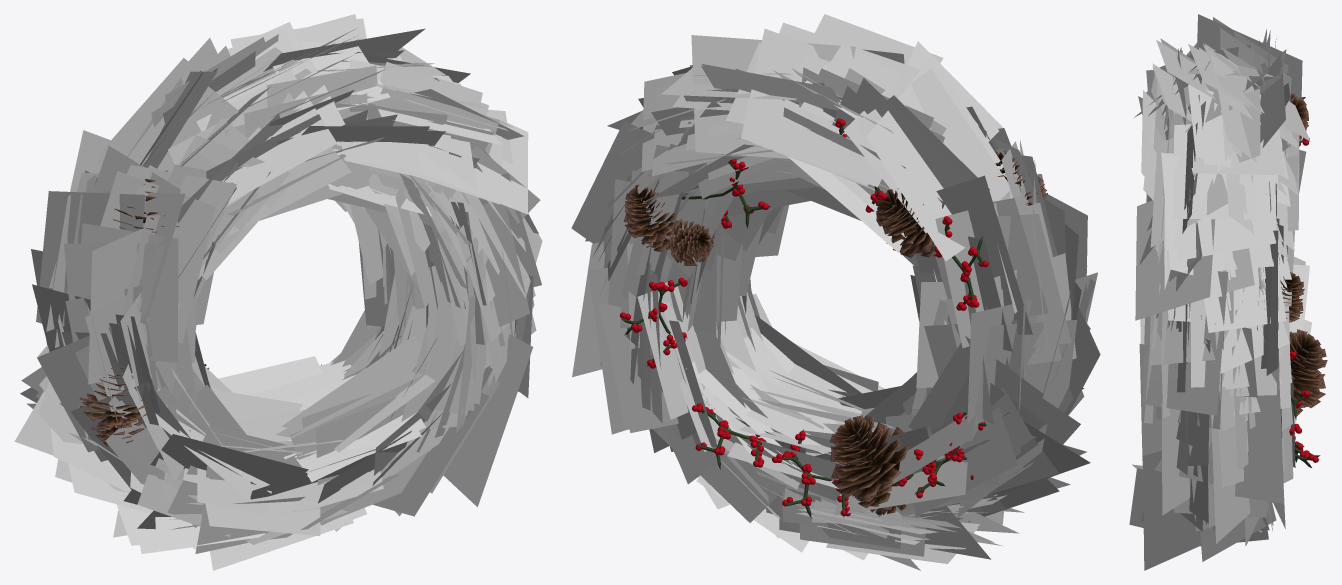
The model's file is wreath.fbx.
3 views of the same model, side by side, from view 1: azimuth 30°, elevation 25°; view 2: azimuth 150°, elevation 25°; view 3: azimuth 270°, elevation 25° (orthographic). The views are drawn at different scales.
Visible parts, largest first — view 1: wreath.lod0; view 2: wreath.lod0; view 3: wreath.lod0.
Part boxes in pixels (x1,y1,x2,y2): wreath.lod0: (14,14,542,570); wreath.lod0: (571,14,1100,570); wreath.lod0: (1129,14,1327,570).
Size of what is drawn, in the model's own units: 527 by 495 by 185.
